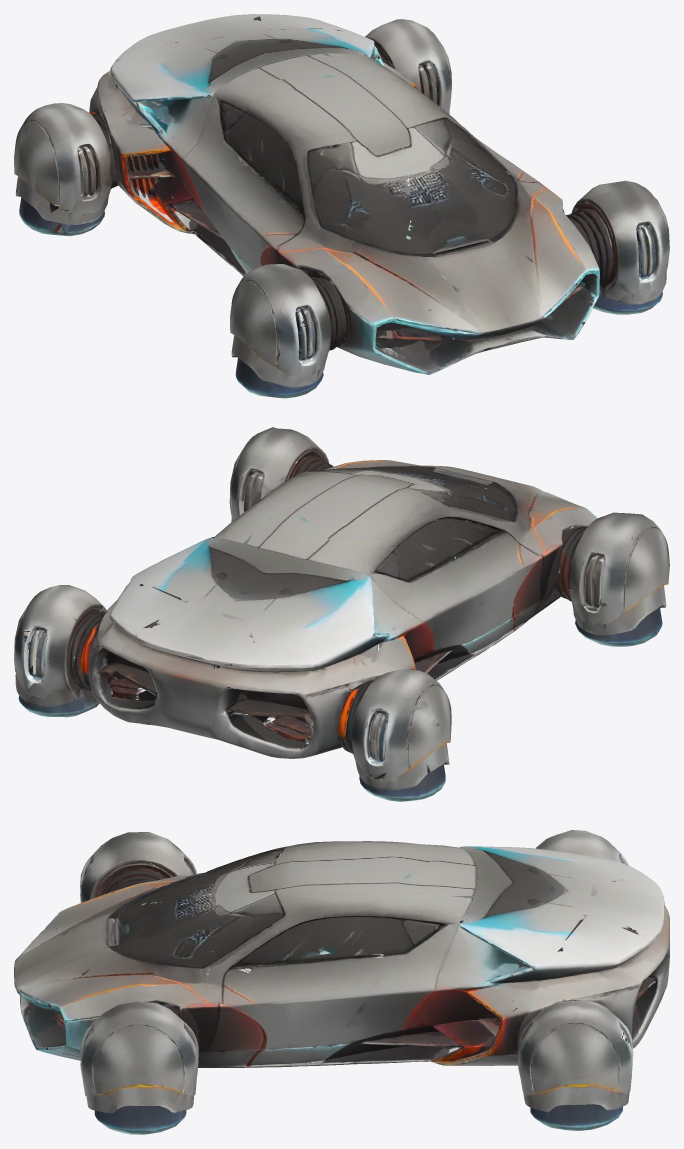
The model's file is car_aero.glb.
3 views of the same model, one above another, from view 1: azimuth 30°, elevation 25°; view 2: azimuth 150°, elevation 25°; view 3: azimuth 270°, elevation 25° (orthographic).
Visible parts, largest first — view 1: car; view 2: car; view 3: car.
Part boxes in pixels (x1,y1,x2,y2): car: [14, 14, 669, 398]; car: [14, 427, 669, 801]; car: [14, 830, 669, 1134].
Size of the model in its own units: 3.29 by 1.25 by 4.4.
1 material, 1 textured.
